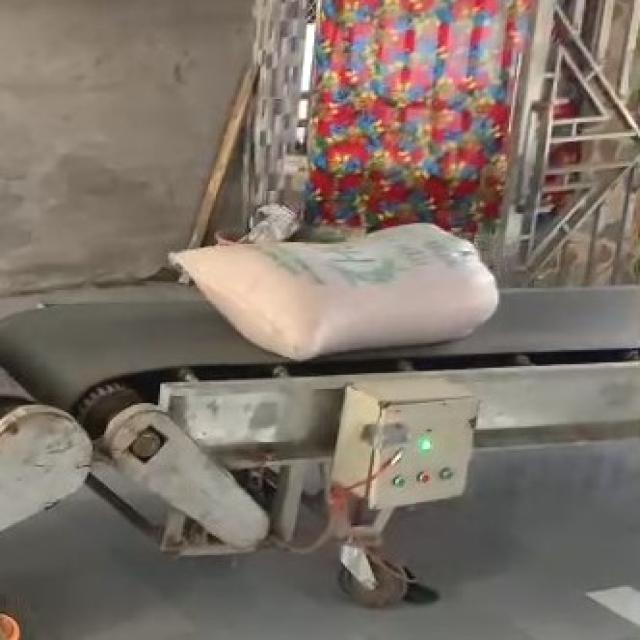gunny_bag: (170, 225, 497, 362)
